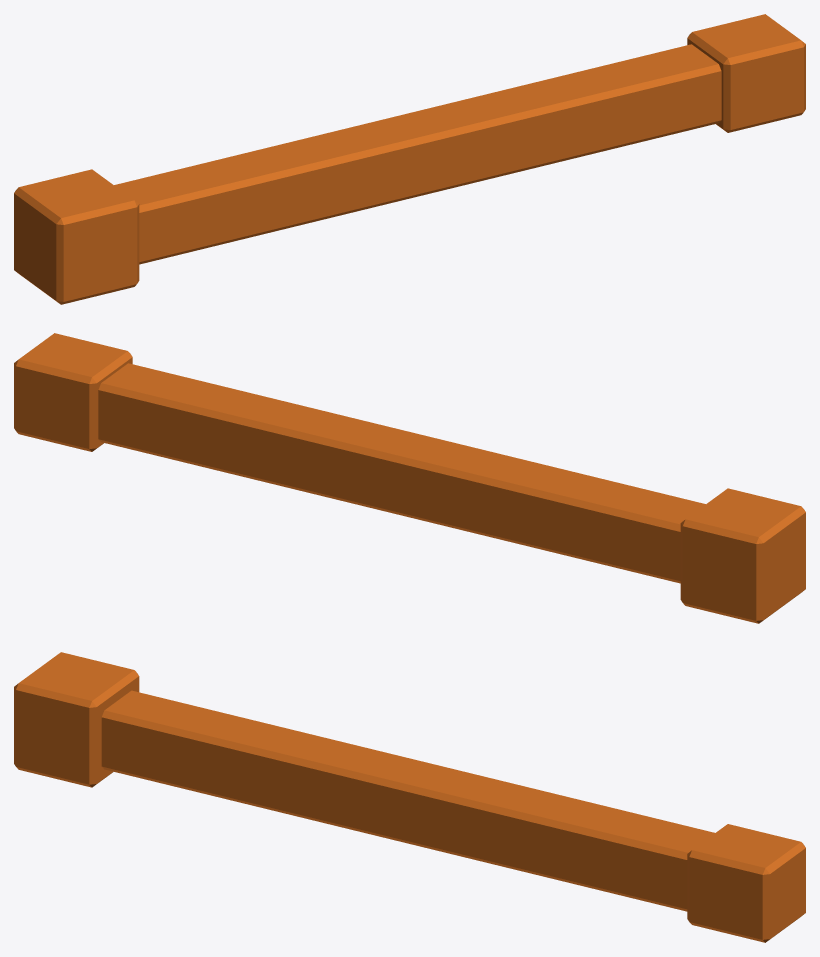
The model's file is rotating-arm-placeholder.glb.
3 renders of one model, top to bottom at view 1: azimuth 30°, elevation 25°; view 2: azimuth 150°, elevation 25°; view 3: azimuth 330°, elevation 25°, orthographic.
Visible parts, largest first — view 1: QUANTUM_Rotating_Arm_Placeholder; view 2: QUANTUM_Rotating_Arm_Placeholder; view 3: QUANTUM_Rotating_Arm_Placeholder.
Part boxes in pixels (left/top/right/bottom): QUANTUM_Rotating_Arm_Placeholder: left=14, top=14, right=805, bottom=304; QUANTUM_Rotating_Arm_Placeholder: left=14, top=333, right=805, bottom=623; QUANTUM_Rotating_Arm_Placeholder: left=14, top=652, right=805, bottom=942.
Bounding box in the file's own units: 4 × 0.44 × 0.44.
